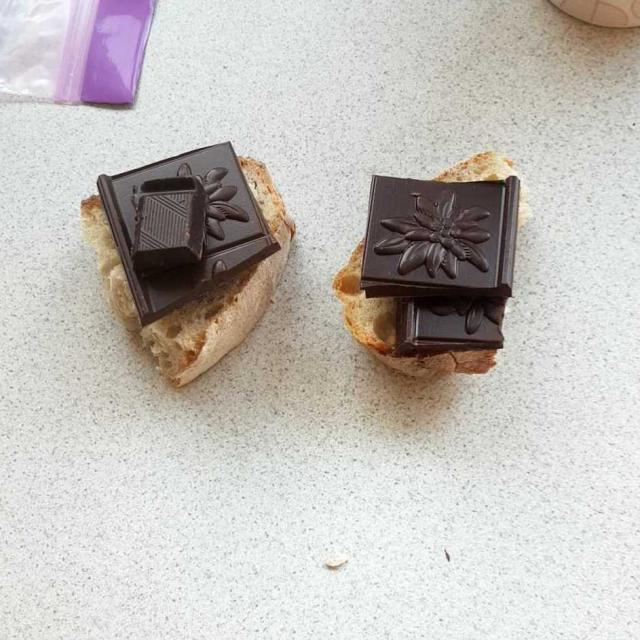dark-chocolate: (88, 141, 515, 363)
